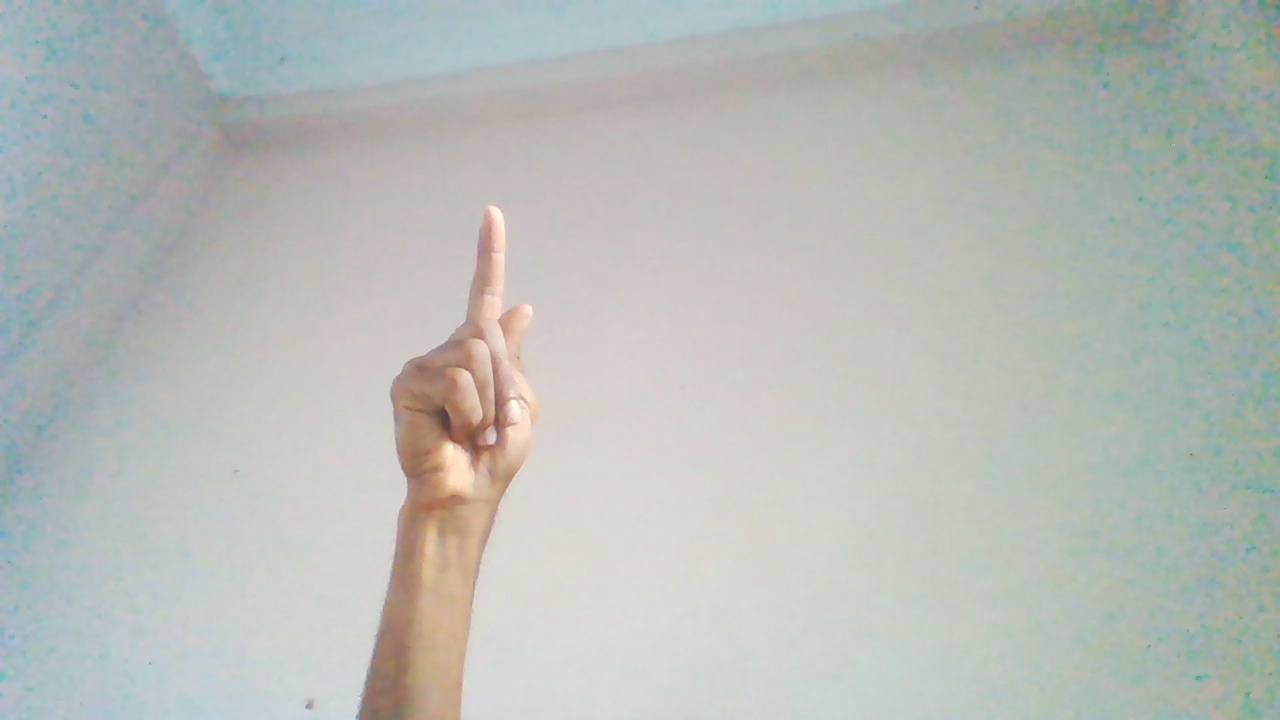ne: (385, 205, 553, 596)
